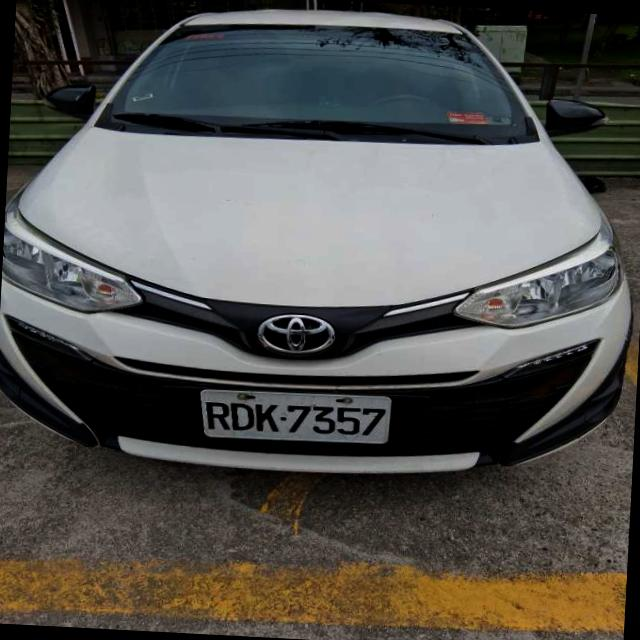license plate: (200, 389, 391, 444)
